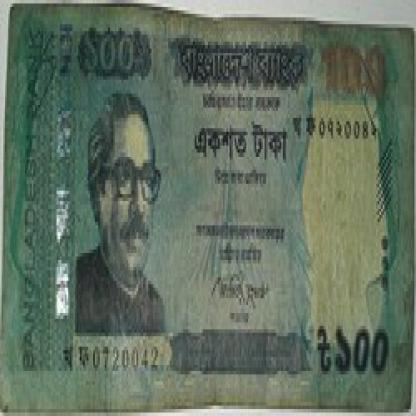one hundred taka: (316, 35, 391, 104), (333, 308, 396, 378), (78, 28, 146, 76)
